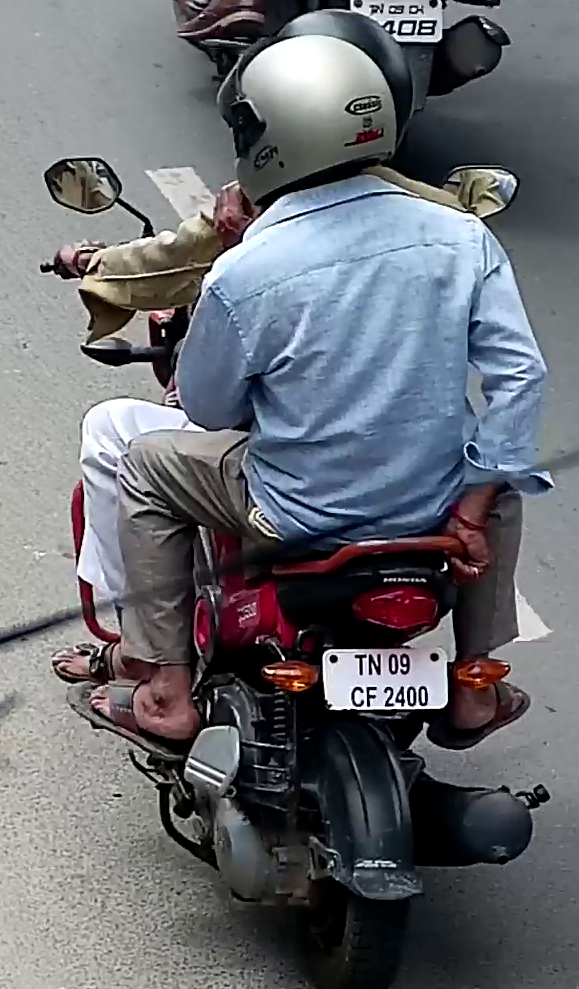0: (388, 653, 399, 675), (406, 686, 417, 707), (418, 686, 428, 707)
2: (383, 686, 394, 707)
4: (394, 686, 406, 707)
9: (399, 653, 410, 675)
C: (350, 686, 365, 707)
F: (365, 686, 378, 707)
N: (368, 653, 381, 676)
P16: (319, 644, 450, 712)
T: (354, 654, 367, 676)
